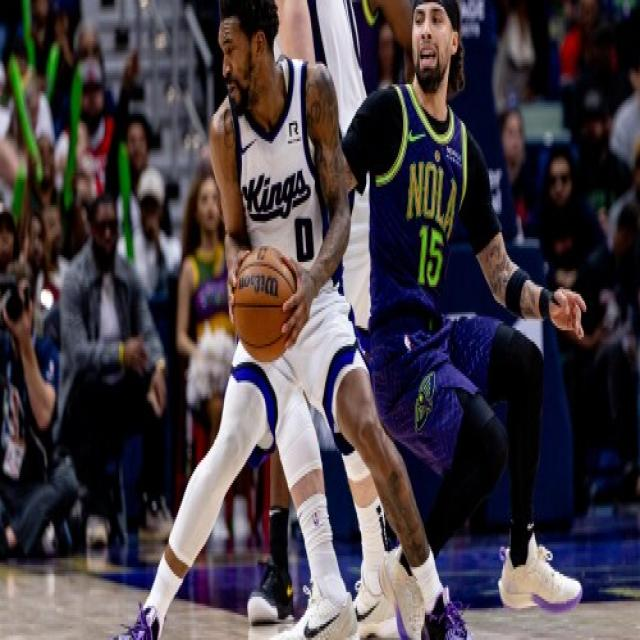basketball: (232, 244, 297, 362)
